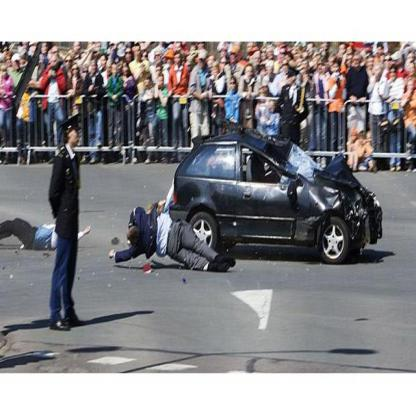face: (71, 130, 81, 146), (231, 46, 240, 63), (246, 66, 254, 82), (219, 59, 227, 73), (74, 43, 82, 55), (267, 49, 275, 61), (268, 102, 275, 115), (375, 65, 382, 78), (408, 53, 415, 66), (284, 54, 292, 65), (31, 48, 38, 60), (52, 48, 59, 60), (134, 47, 141, 59), (208, 55, 214, 69), (231, 79, 237, 93), (294, 47, 300, 61), (254, 57, 262, 67), (260, 93, 268, 103), (127, 50, 133, 63), (287, 74, 294, 85), (353, 58, 360, 69), (51, 59, 59, 68), (213, 64, 219, 76), (261, 49, 267, 61), (391, 69, 397, 81), (408, 82, 414, 94), (368, 59, 374, 71), (175, 56, 182, 66), (175, 44, 182, 54), (200, 59, 207, 69), (221, 49, 228, 59), (260, 69, 267, 79), (280, 48, 285, 62), (340, 45, 347, 55), (42, 44, 48, 55), (123, 64, 129, 75), (259, 152, 265, 163), (107, 63, 112, 76), (156, 53, 161, 66), (313, 58, 318, 71), (7, 57, 13, 67), (21, 60, 27, 70), (73, 67, 79, 77), (66, 58, 72, 68), (84, 69, 90, 79), (145, 79, 151, 89), (284, 61, 289, 73), (322, 42, 328, 52), (360, 135, 366, 145), (159, 78, 164, 89), (15, 62, 21, 71), (2, 63, 8, 72), (302, 62, 308, 71), (352, 133, 358, 142), (40, 57, 45, 67), (92, 64, 97, 74), (102, 58, 107, 68), (409, 66, 414, 76), (399, 67, 405, 75), (157, 67, 162, 76), (142, 54, 148, 61), (76, 55, 81, 63), (82, 55, 87, 63), (113, 65, 117, 75), (319, 66, 324, 74), (379, 48, 384, 56), (167, 58, 172, 65), (160, 43, 167, 48), (199, 43, 204, 50), (192, 46, 197, 53), (348, 46, 352, 54), (335, 65, 339, 73), (303, 53, 308, 59), (322, 51, 327, 57)
